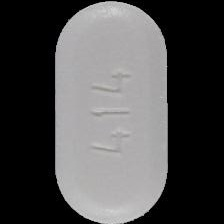69189-0419: (0, 0, 224, 224)
